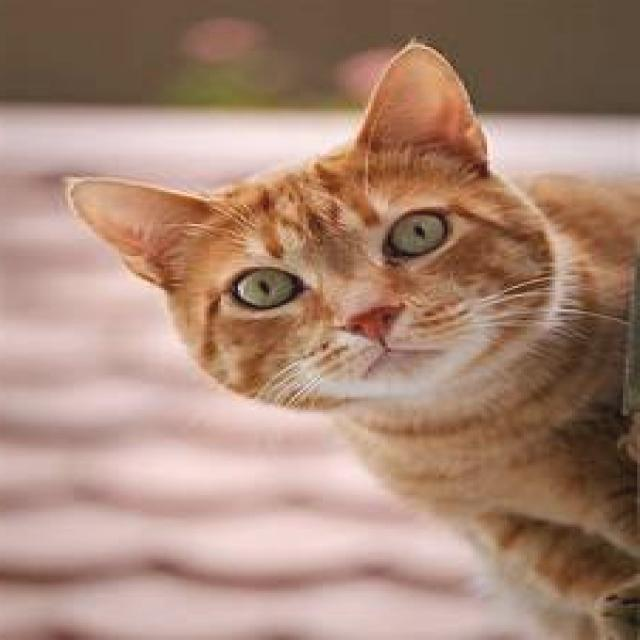KEDI: (52, 37, 640, 634)
